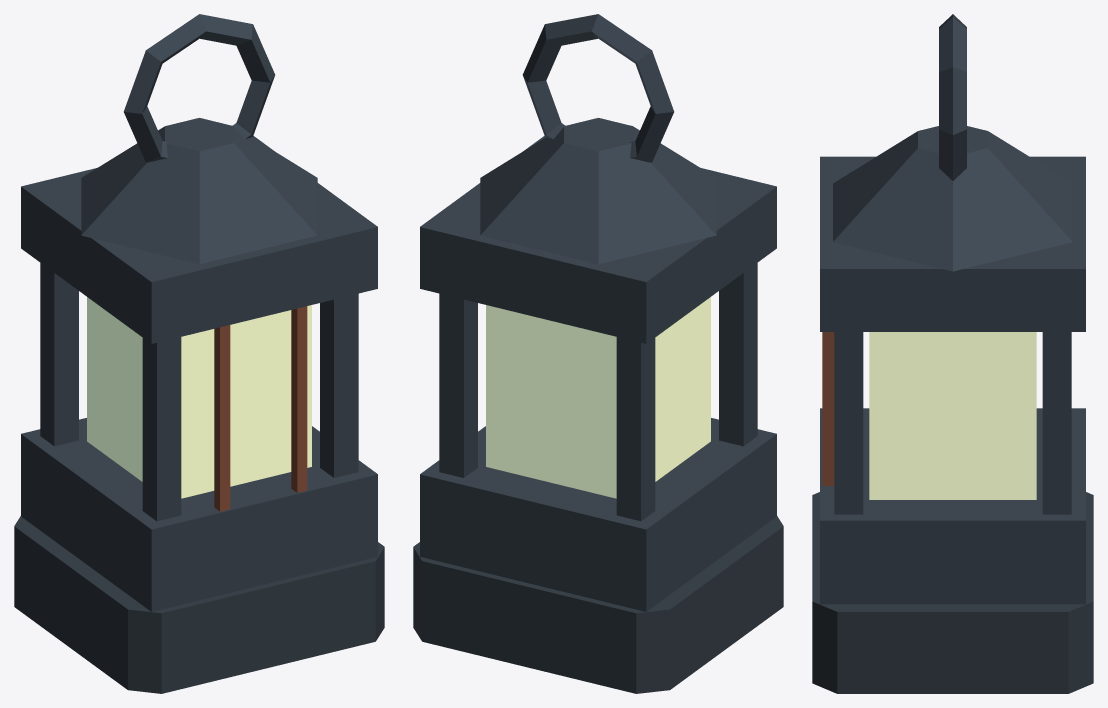
Rendered from iron_lamp.glb.
3 renders of one model, left to right at view 1: azimuth 30°, elevation 25°; view 2: azimuth 150°, elevation 25°; view 3: azimuth 270°, elevation 25°, orthographic.
Parts seen in each view (by area): view 1: geometry, light; view 2: geometry, light; view 3: geometry, light.
Boxes of the visible parts, left/top/right/bottom form: geometry: left=14, top=14, right=384, bottom=693; light: left=87, top=297, right=311, bottom=498; geometry: left=413, top=14, right=783, bottom=693; light: left=486, top=297, right=710, bottom=498; geometry: left=812, top=14, right=1093, bottom=693; light: left=869, top=332, right=1036, bottom=499.
Size of the model in its own units: 0.3 by 0.6731 by 0.28.
